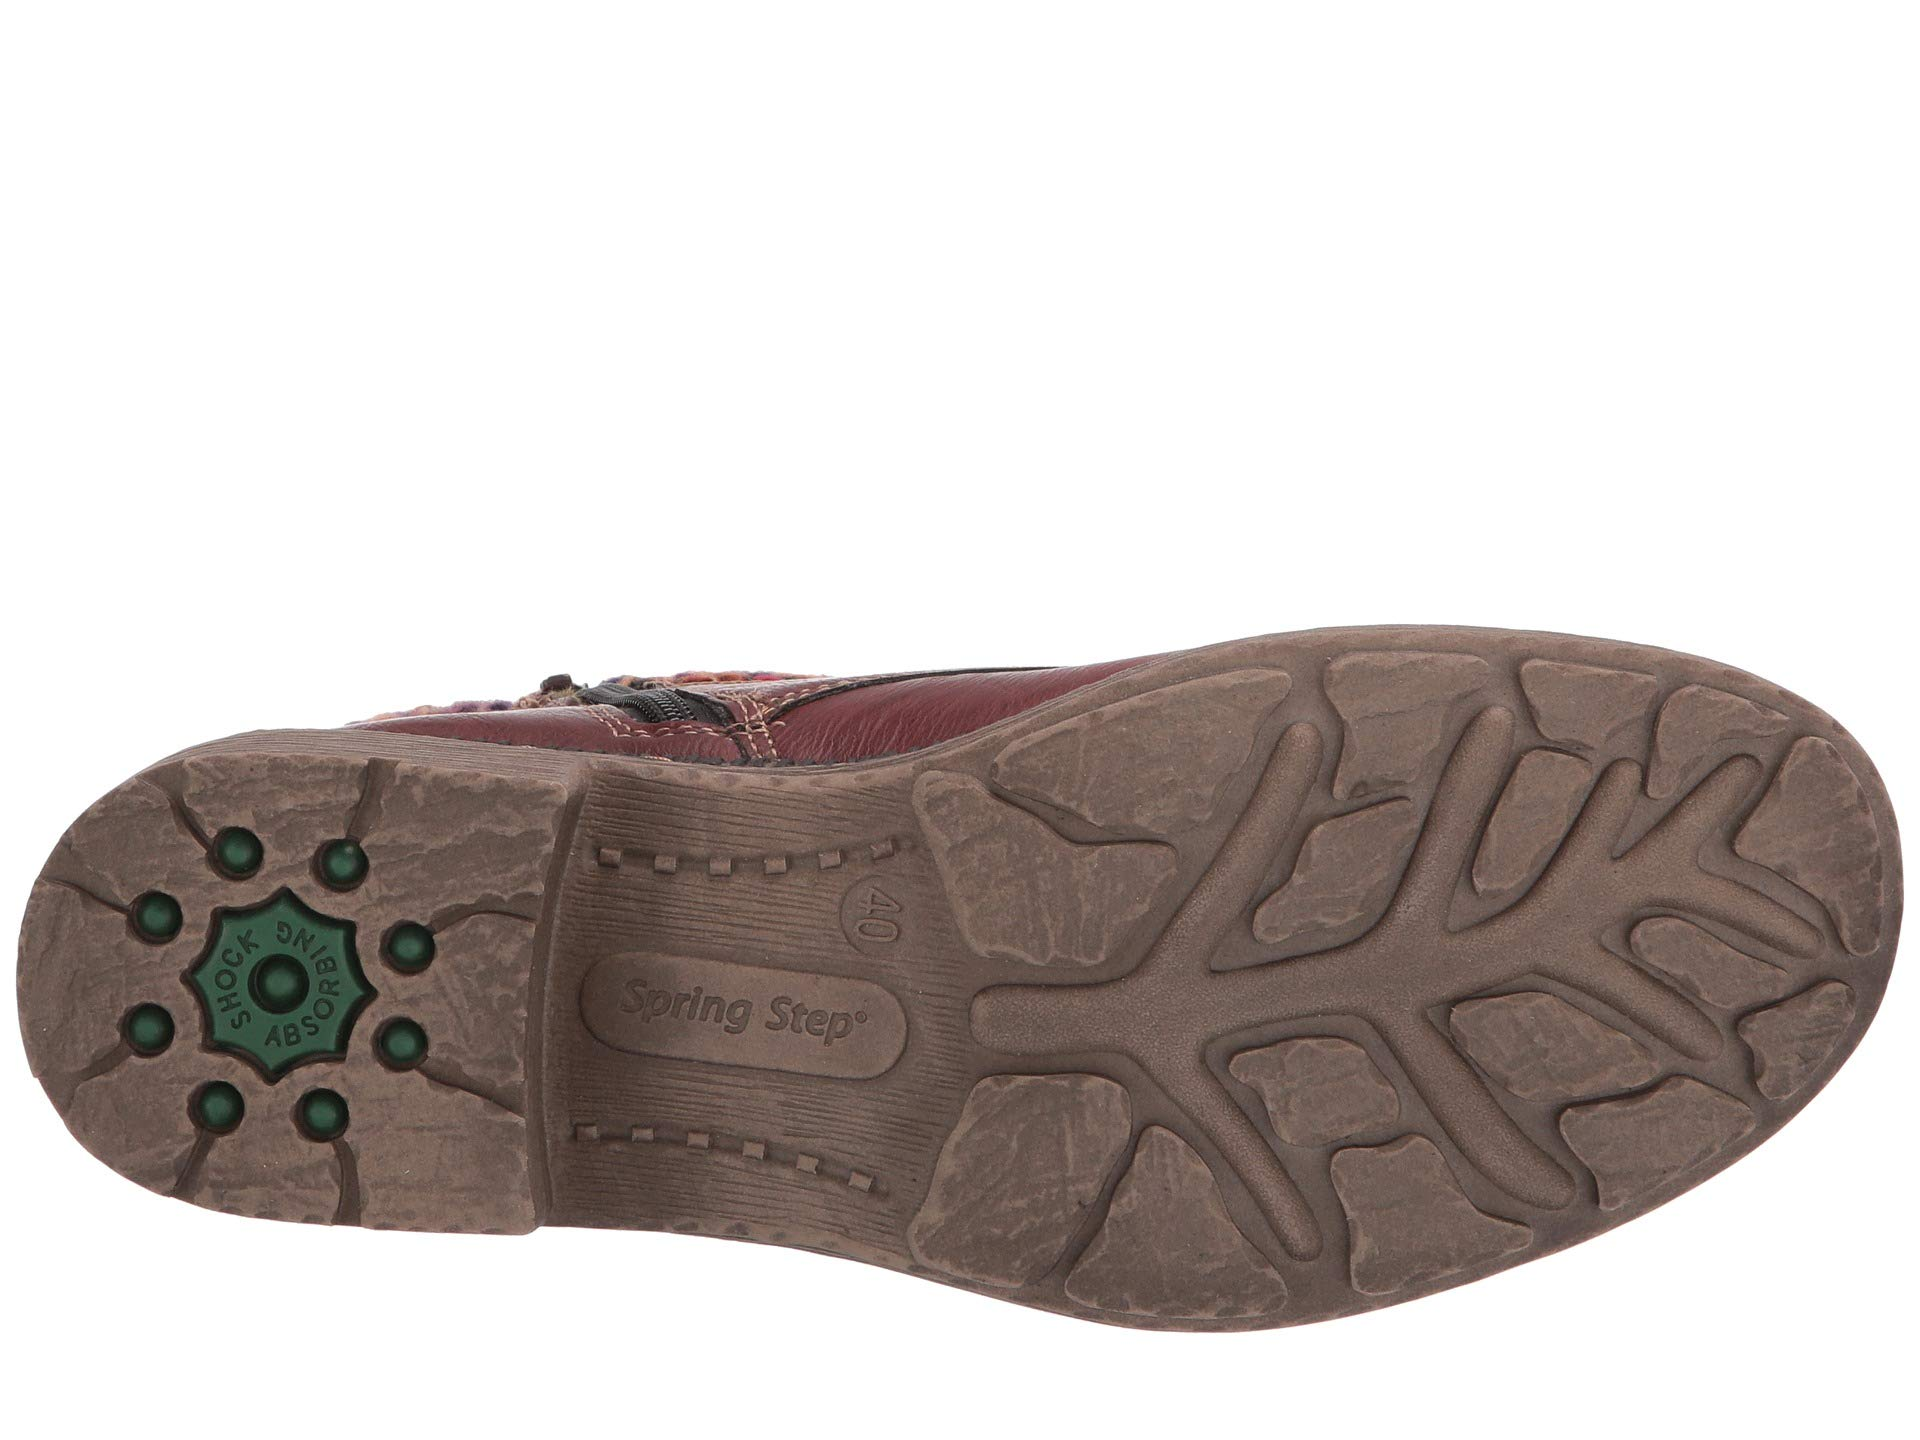circle: (175, 871, 378, 1092), (818, 853, 937, 971)
star: (175, 871, 378, 1092)
text: (175, 871, 378, 1092), (818, 853, 937, 971)
